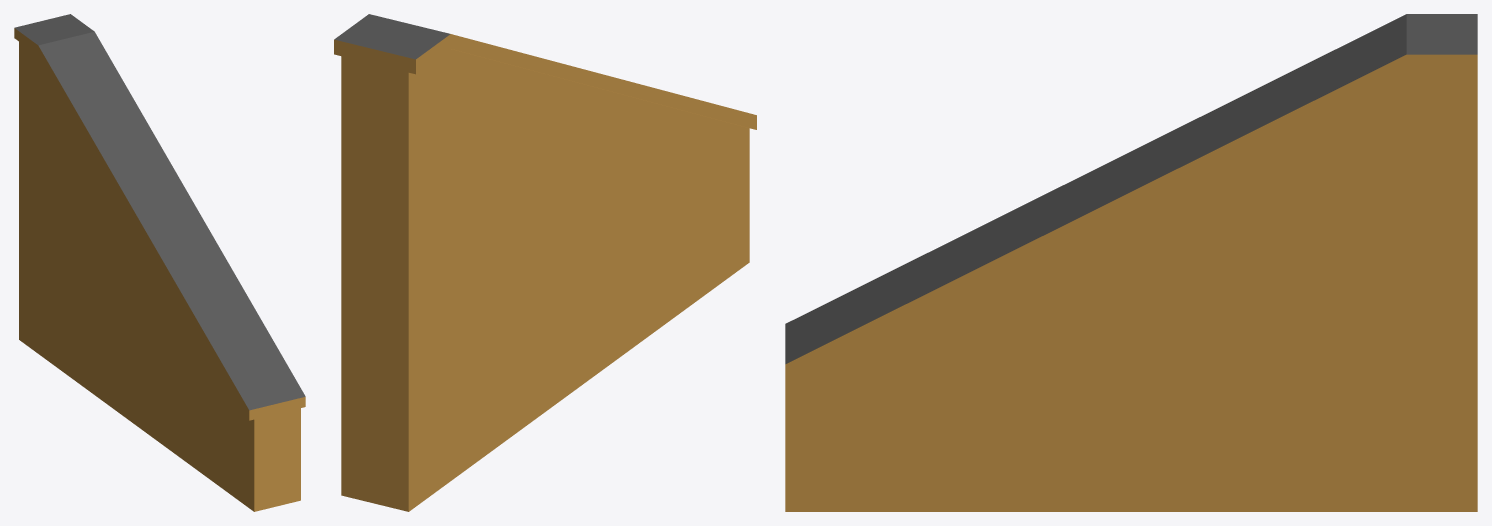
The model's file is Skate_Slide_Rail_Double_Filled_01.FBX.
3 views of the same model, side by side, from view 1: azimuth 30°, elevation 25°; view 2: azimuth 150°, elevation 25°; view 3: azimuth 270°, elevation 25° (orthographic). The views are drawn at different scales.
Visible parts, largest first — view 1: Skate_Slide_Rail_Double_Filled_01; view 2: Skate_Slide_Rail_Double_Filled_01; view 3: Skate_Slide_Rail_Double_Filled_01.
Boxes of the visible parts, box(x1,y1,x2,y2) form: Skate_Slide_Rail_Double_Filled_01: box(14, 14, 305, 511); Skate_Slide_Rail_Double_Filled_01: box(334, 14, 756, 511); Skate_Slide_Rail_Double_Filled_01: box(785, 14, 1477, 511).
Bounding box in the file's own units: 0.4157 × 2.2 × 3.
